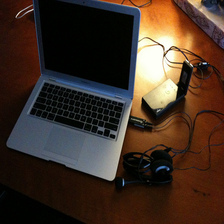laptop: (18, 1, 155, 193)
